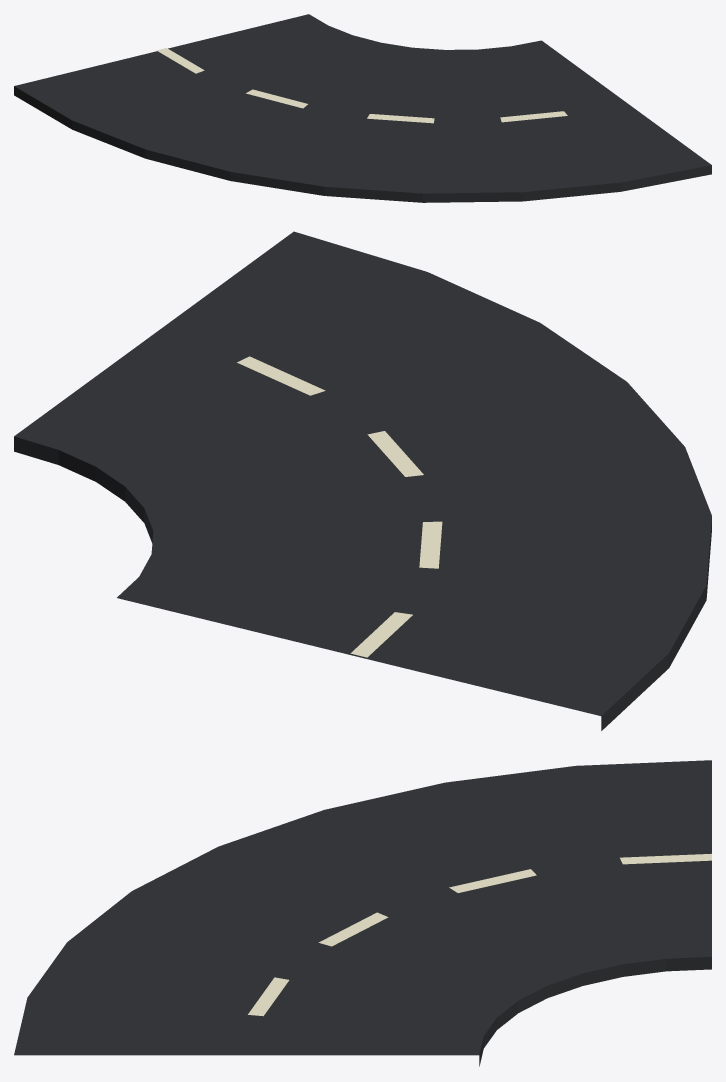
File: road_asphalt_curve.glb
3 renders of one model, top to bottom at view 1: azimuth 30°, elevation 25°; view 2: azimuth 150°, elevation 25°; view 3: azimuth 270°, elevation 25°, orthographic. The views are drawn at different scales.
Visible parts, largest first — view 1: body; view 2: body; view 3: body.
Part boxes in pixels (x1,y1,x2,y2): body: [14, 14, 711, 202]; body: [14, 231, 711, 730]; body: [14, 760, 711, 1066].
Size of what is drawn, in the model's own units: 6 by 0.132 by 6.
